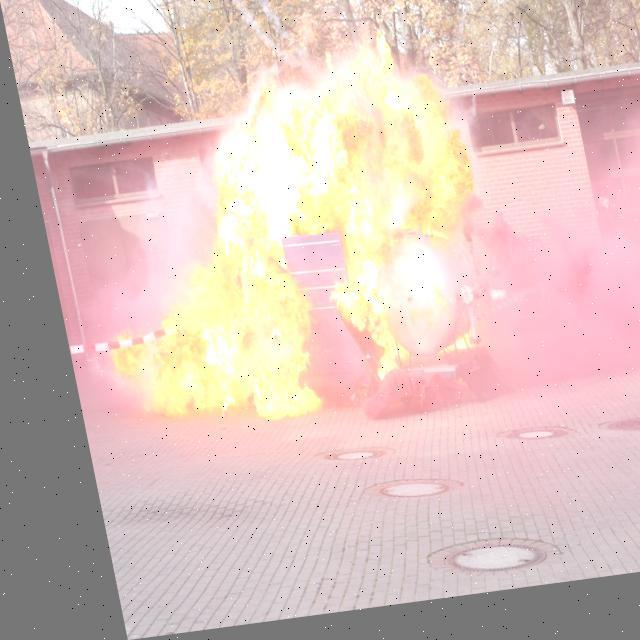Fire: (49, 30, 502, 445)
